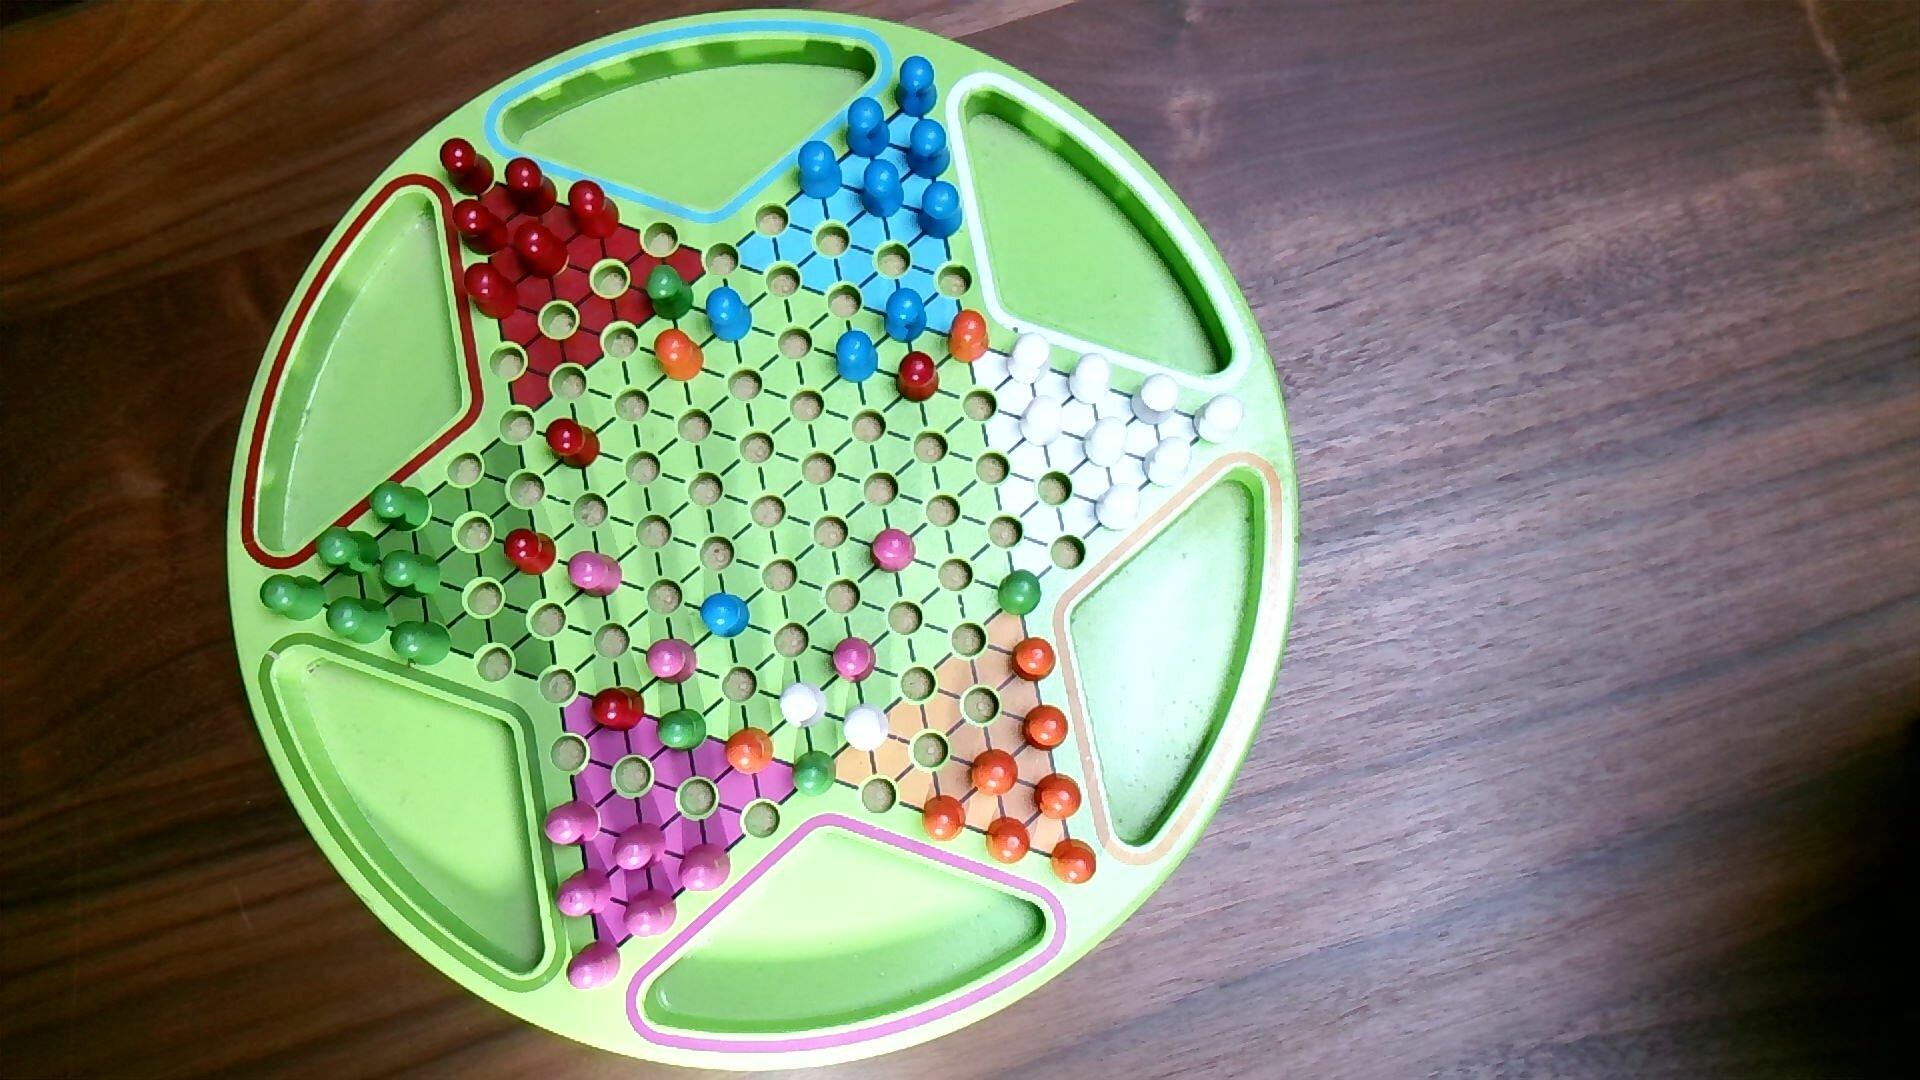B: (905, 117, 953, 182), (916, 179, 965, 243), (796, 138, 845, 202), (844, 95, 891, 160), (705, 285, 756, 345), (860, 158, 907, 222), (893, 54, 939, 119), (882, 287, 930, 345), (833, 328, 881, 385), (699, 592, 752, 641)
G: (368, 479, 433, 535), (315, 525, 382, 579), (326, 593, 392, 647), (378, 549, 444, 603), (258, 574, 328, 622), (390, 618, 454, 669), (644, 264, 696, 323), (996, 568, 1044, 618), (791, 749, 839, 799), (655, 707, 707, 753)
O: (653, 327, 707, 385), (723, 725, 775, 778), (945, 309, 992, 367), (1033, 771, 1084, 823), (971, 746, 1021, 799), (1021, 703, 1071, 754), (1007, 636, 1059, 684), (1050, 837, 1098, 887), (985, 815, 1033, 866), (920, 793, 968, 844)
R: (512, 219, 571, 282), (462, 262, 521, 323), (452, 198, 512, 258), (502, 157, 560, 219), (567, 178, 622, 243), (440, 137, 496, 198), (545, 415, 603, 472), (502, 527, 559, 578), (589, 686, 647, 735), (895, 349, 942, 405)
R2: (541, 798, 603, 851), (611, 822, 669, 876), (555, 866, 615, 919), (566, 939, 622, 993), (566, 549, 624, 601), (622, 887, 679, 940), (644, 636, 699, 688), (676, 843, 733, 894), (831, 636, 880, 687), (869, 527, 918, 575)
W: (1192, 392, 1247, 448), (1141, 435, 1193, 491), (1130, 372, 1182, 429), (1006, 330, 1054, 386), (843, 703, 893, 756), (1083, 415, 1131, 469), (1093, 483, 1143, 534), (1068, 352, 1114, 407), (781, 680, 829, 732), (1018, 396, 1065, 448)
